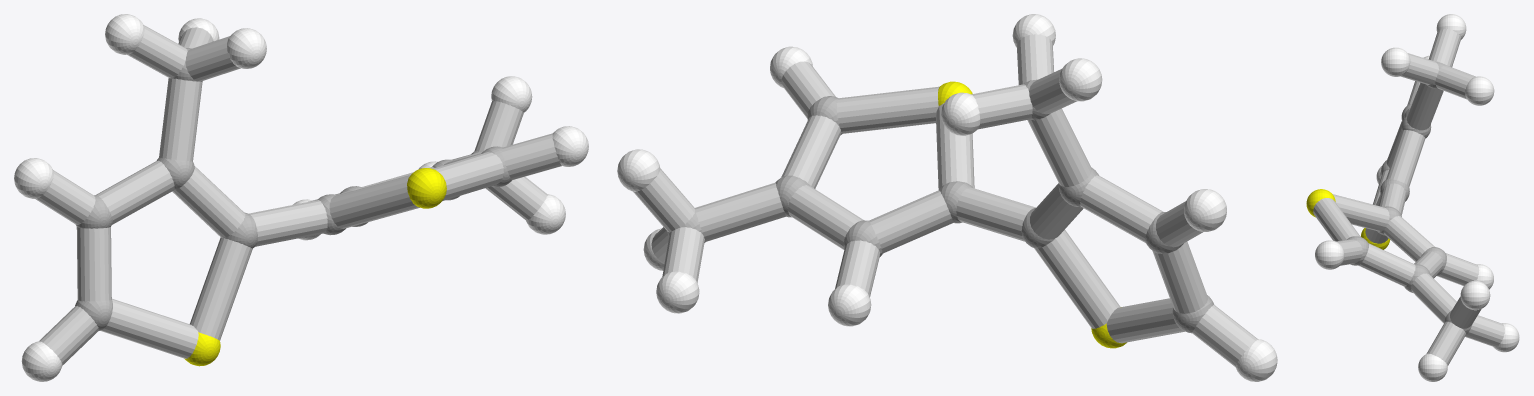
Rendered from Methylthiophene_Phi_5_Theta_80_Methylthiophene.glb.
The picture shows the model from 3 angles, left to right: view 1: azimuth 30°, elevation 25°; view 2: azimuth 150°, elevation 25°; view 3: azimuth 270°, elevation 25°; orthographic projection. The views are drawn at different scales.
Parts seen in each view (by area): view 1: grp7965, grp3621, grp1, grp7241; view 2: grp7965, grp3621, grp1, grp7241; view 3: grp7965, grp3621, grp1, grp7241.
Part boxes in pixels (x1=…): grp7965: x1=35, y1=25, x2=561, y2=365; grp3621: x1=14, y1=14, x2=588, y2=381; grp1: x1=75, y1=48, x2=511, y2=330; grp7241: x1=184, y1=168, x2=446, y2=366; grp7965: x1=633, y1=34, x2=1257, y2=366; grp3621: x1=617, y1=14, x2=1277, y2=381; grp1: x1=667, y1=79, x2=1214, y2=333; grp7241: x1=938, y1=81, x2=1126, y2=348; grp7965: x1=1313, y1=28, x2=1504, y2=365; grp3621: x1=1315, y1=14, x2=1519, y2=381; grp1: x1=1347, y1=61, x2=1472, y2=333; grp7241: x1=1306, y1=189, x2=1389, y2=249.
Bounding box in the file's own units: 9.56 × 5.08 × 4.3.
